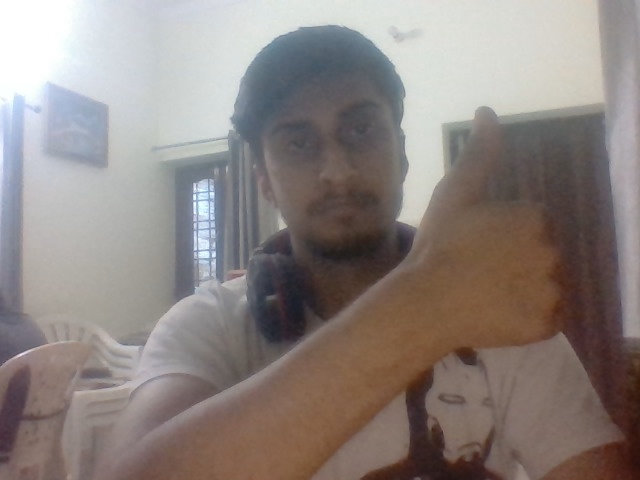ThumbsUp: (409, 106, 561, 348)
